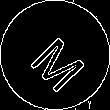M_NE: (21, 21, 89, 89)
